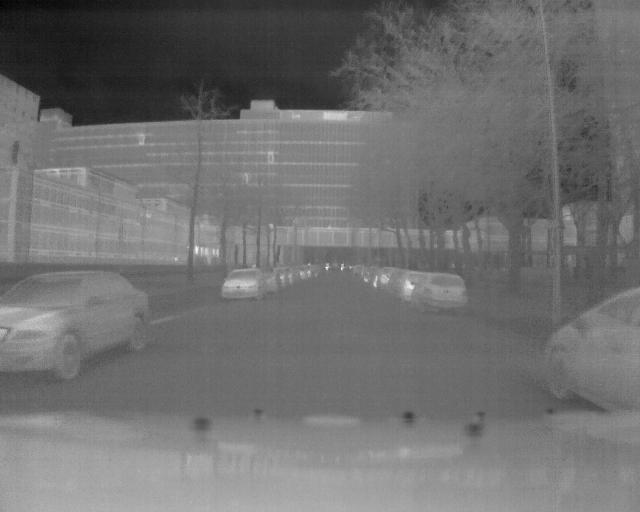car: (1, 267, 152, 380), (539, 281, 640, 410), (411, 267, 470, 316), (219, 267, 269, 304)
